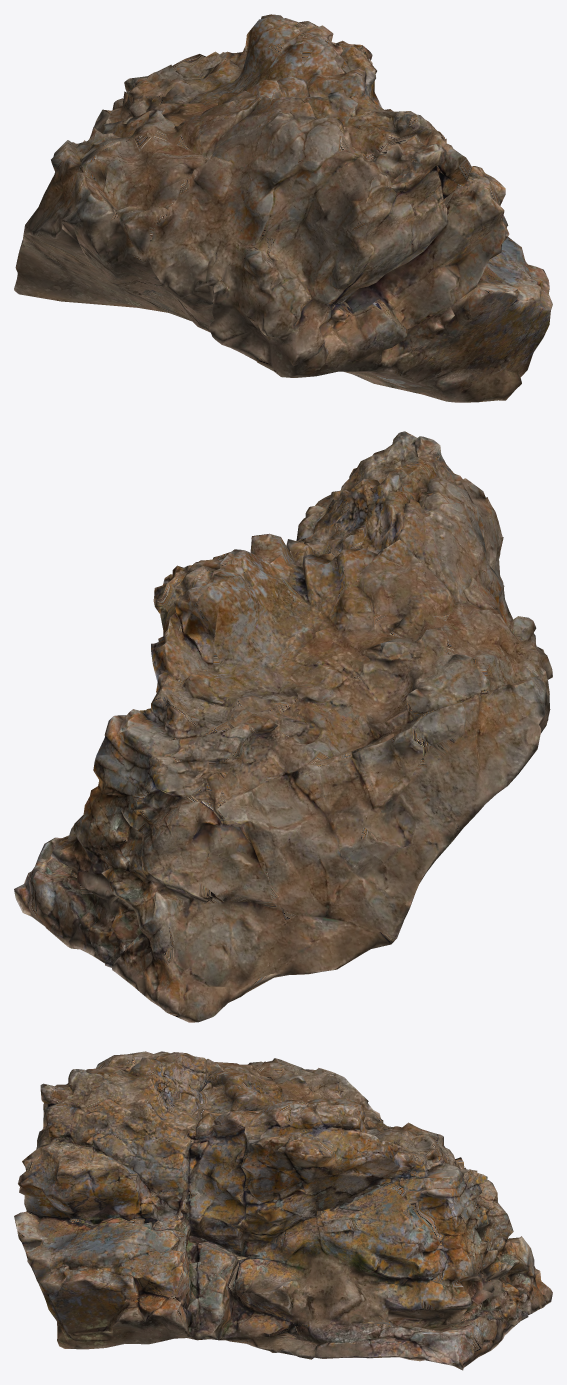
File: boulder.glb
The picture shows the model from 3 angles, top to bottom: view 1: azimuth 30°, elevation 25°; view 2: azimuth 150°, elevation 25°; view 3: azimuth 270°, elevation 25°; orthographic projection. The views are drawn at different scales.
Parts seen in each view (by area): view 1: rockBoulder; view 2: rockBoulder; view 3: rockBoulder.
Boxes of the visible parts, bbox=[...] form: rockBoulder: bbox=[14, 14, 552, 402]; rockBoulder: bbox=[14, 431, 552, 1022]; rockBoulder: bbox=[14, 1051, 552, 1370].
Bounding box in the file's own units: 1.27 × 1 × 1.83.
Materials: 1 (1 with a texture image).
